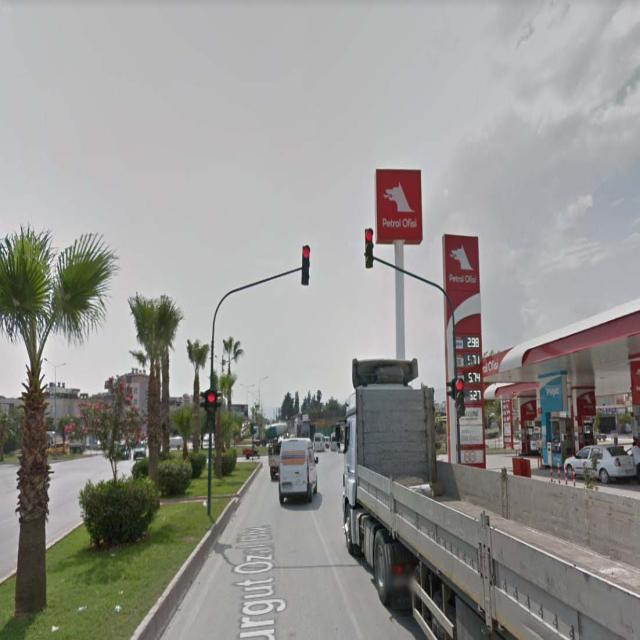kirmizi: (454, 379, 465, 415), (364, 228, 372, 270), (207, 390, 215, 424), (302, 246, 308, 284)
